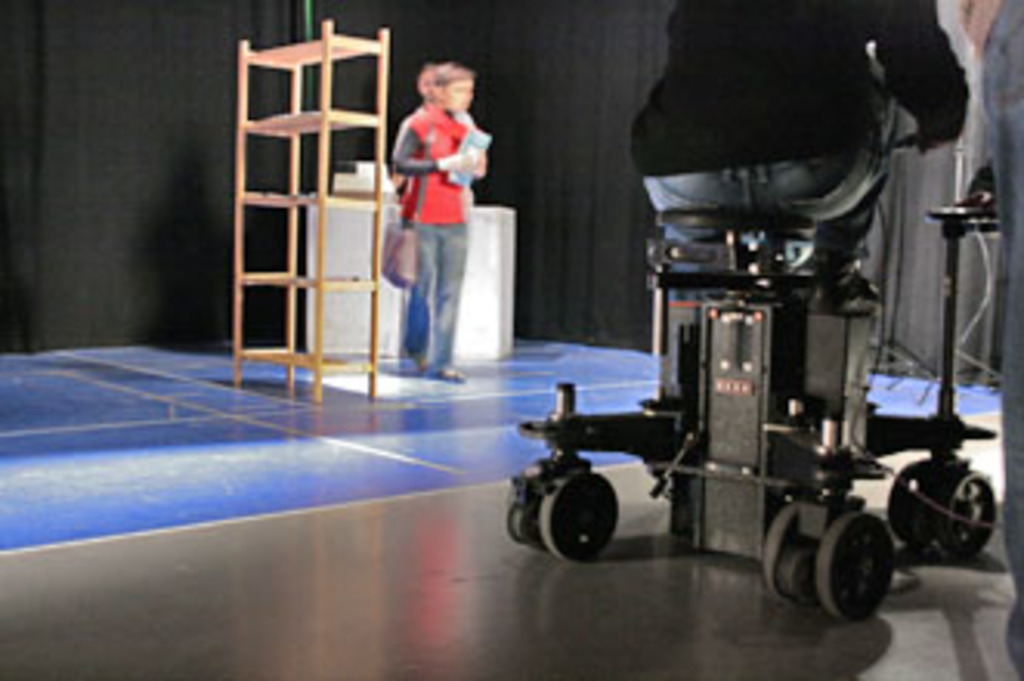Person: (629, 0, 971, 315)
